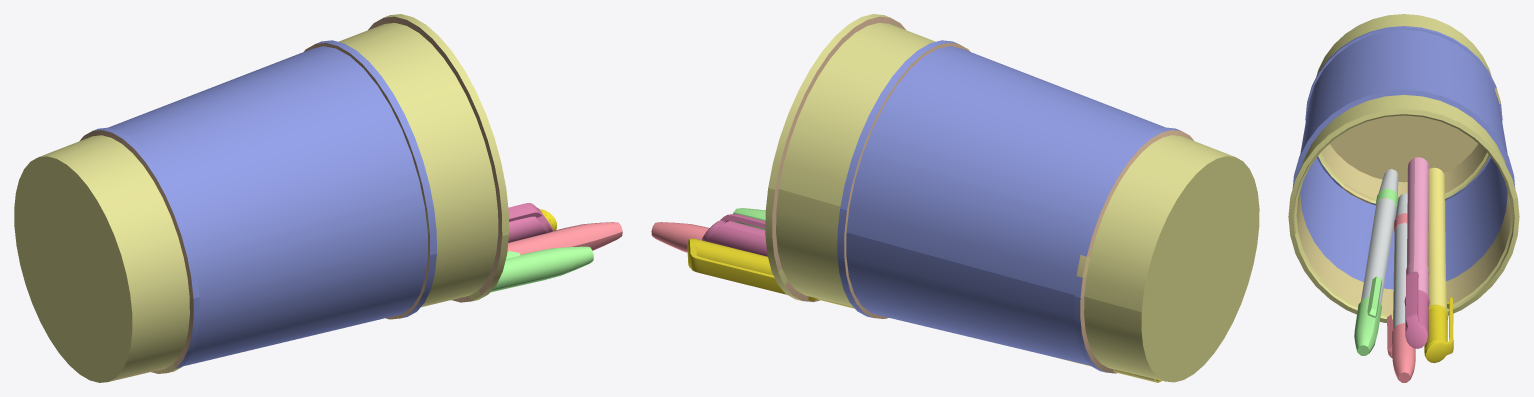
3 renders of one model, left to right at view 1: azimuth 30°, elevation 25°; view 2: azimuth 150°, elevation 25°; view 3: azimuth 270°, elevation 25°, orthographic. The views are drawn at different scales.
Visible parts, largest first — view 1: cup_for_pen, hood_01.001, hood_01.002, hood_02; view 2: cup_for_pen, hood_02.001, hood_02, hood_01.002; view 3: cup_for_pen, gel_pen, pen.001, gel_pen.001, pen.002, hood_02, hood_01.001, hood_02.001, hood_01.002.
Part boxes in pixels (x1,y1,x2,y2): cup_for_pen: [14, 14, 508, 382]; hood_01.001: [490, 246, 593, 292]; hood_01.002: [507, 222, 622, 254]; hood_02: [508, 203, 552, 242]; cup_for_pen: [765, 14, 1259, 382]; hood_02.001: [687, 238, 817, 300]; hood_02: [702, 214, 767, 256]; hood_01.002: [651, 222, 709, 252]; cup_for_pen: [1288, 14, 1519, 322]; gel_pen: [1406, 157, 1428, 295]; pen.001: [1361, 169, 1398, 304]; gel_pen.001: [1428, 167, 1446, 310]; pen.002: [1393, 193, 1407, 329]; hood_02: [1404, 271, 1429, 348]; hood_01.001: [1354, 276, 1382, 355]; hood_02.001: [1424, 297, 1453, 362]; hood_01.002: [1387, 314, 1415, 382].
Bounding box in the file's own units: 1851 × 865 × 866.
